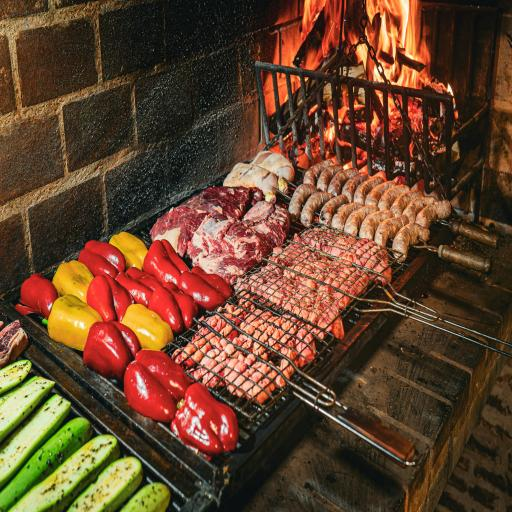campfire: (263, 0, 512, 176)
